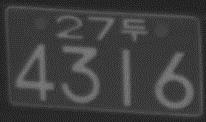1: (111, 48, 145, 108)
2: (55, 14, 84, 40)
3: (61, 44, 101, 104)
4: (14, 43, 55, 101)
6: (153, 51, 195, 110)
7: (88, 15, 115, 41)
두: (121, 17, 148, 41)
